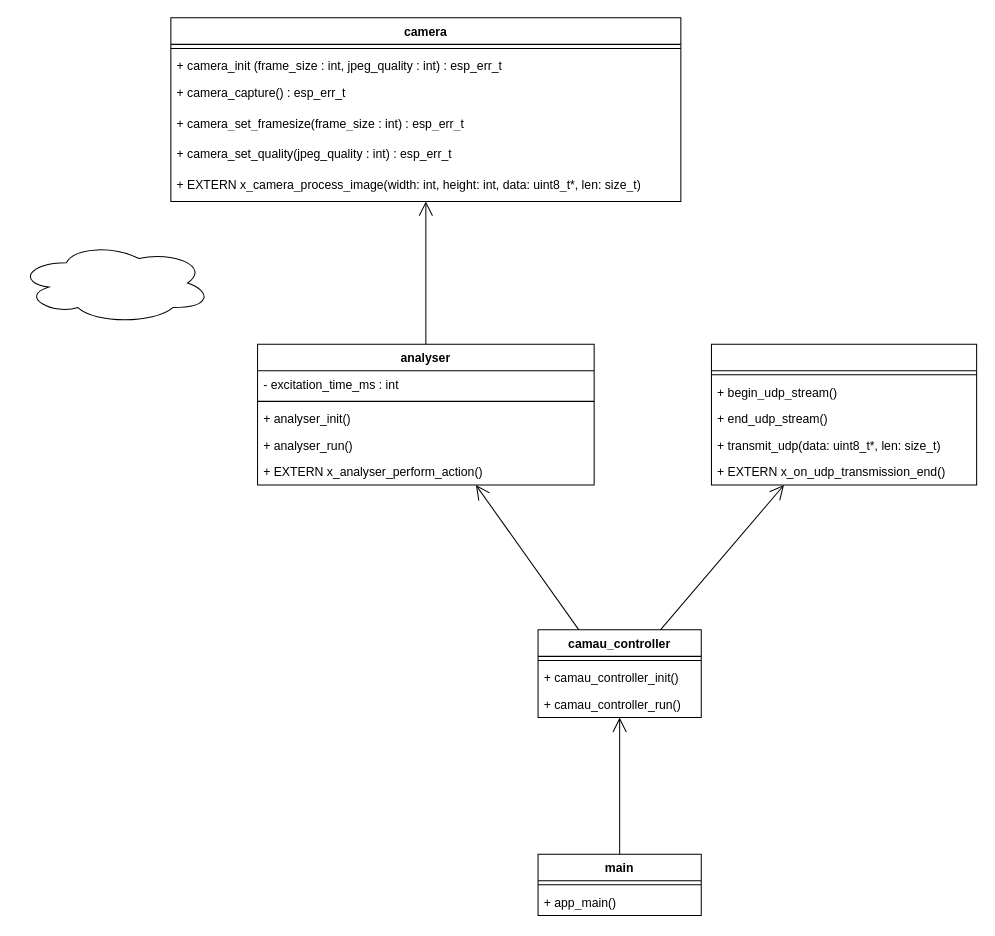
The diagram is 995 pixels wide and 936 high, and some of its shapes have lost their labels. Each missing label, with the box of its shape:
JPEG2RGB converter: (17, 241, 212, 324)
server_communications: (710, 343, 977, 485)
